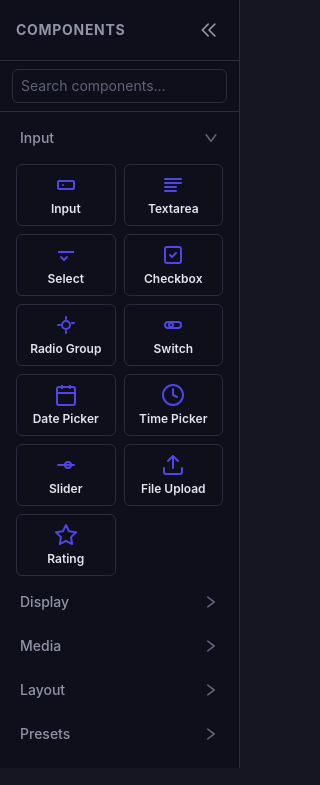
ComponentPalette › Palette search (IMP-001) › shows no results message when search has no matches
This screenshot has width=320, height=785.
Step 1. Type "zzzzz" into the field with test id "palette-search" → (120, 86), box [12,69,227,103]
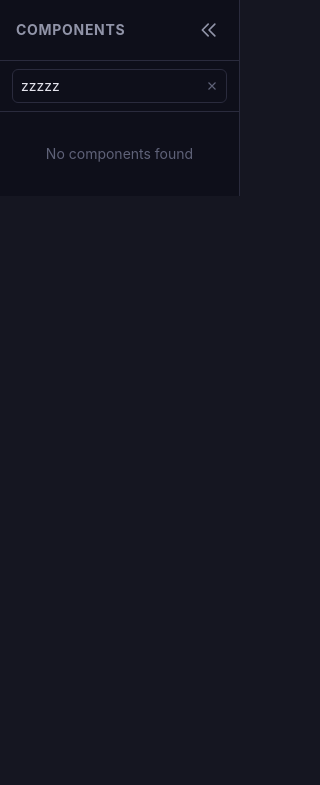
Now the text "No components found" is shown, box [46,145,193,162]
